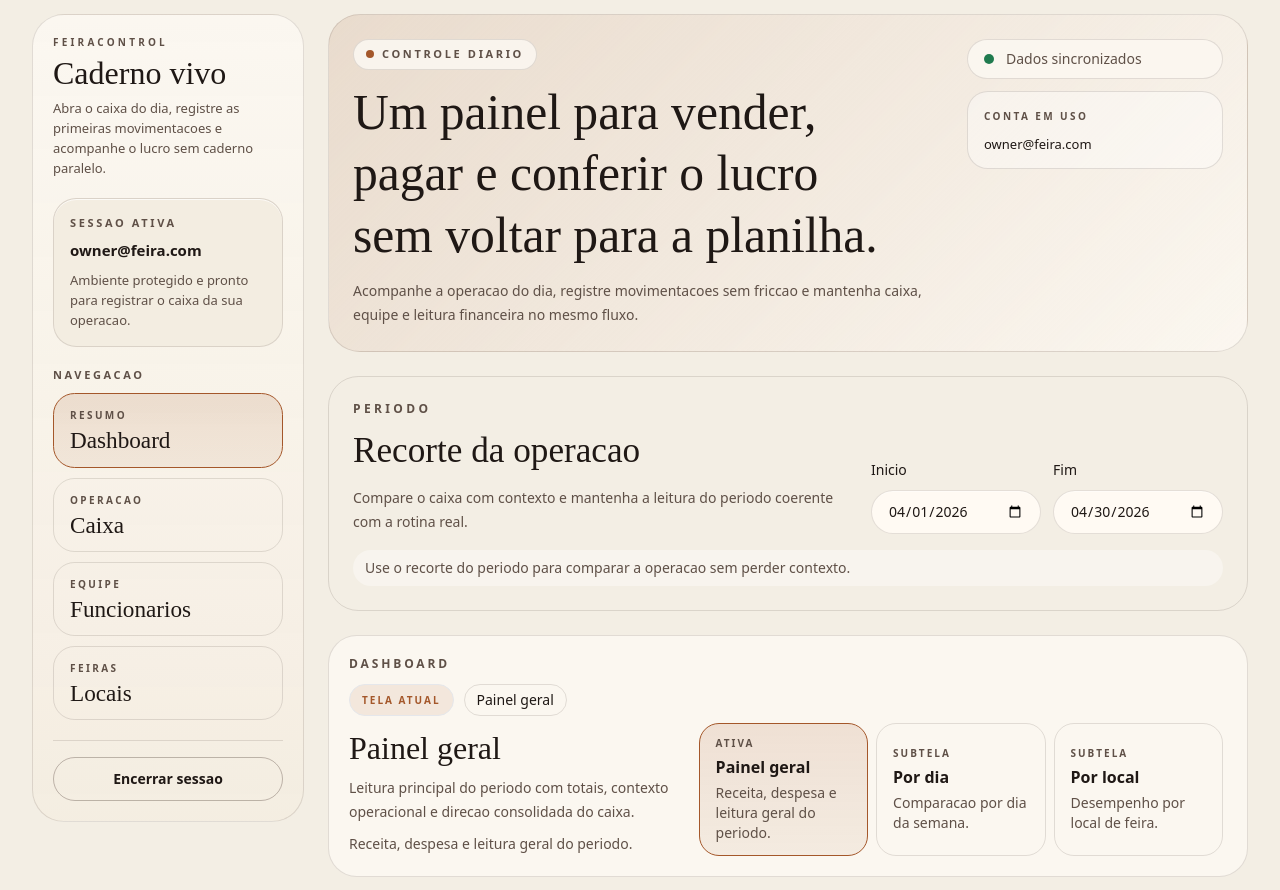
it: App context flows › mostra contexto do local quando a movimentacao do caixa esta vinculada
Click the button with test id "nav-cash" at (168, 515), box [53,478,283,552]
(page scrolled)
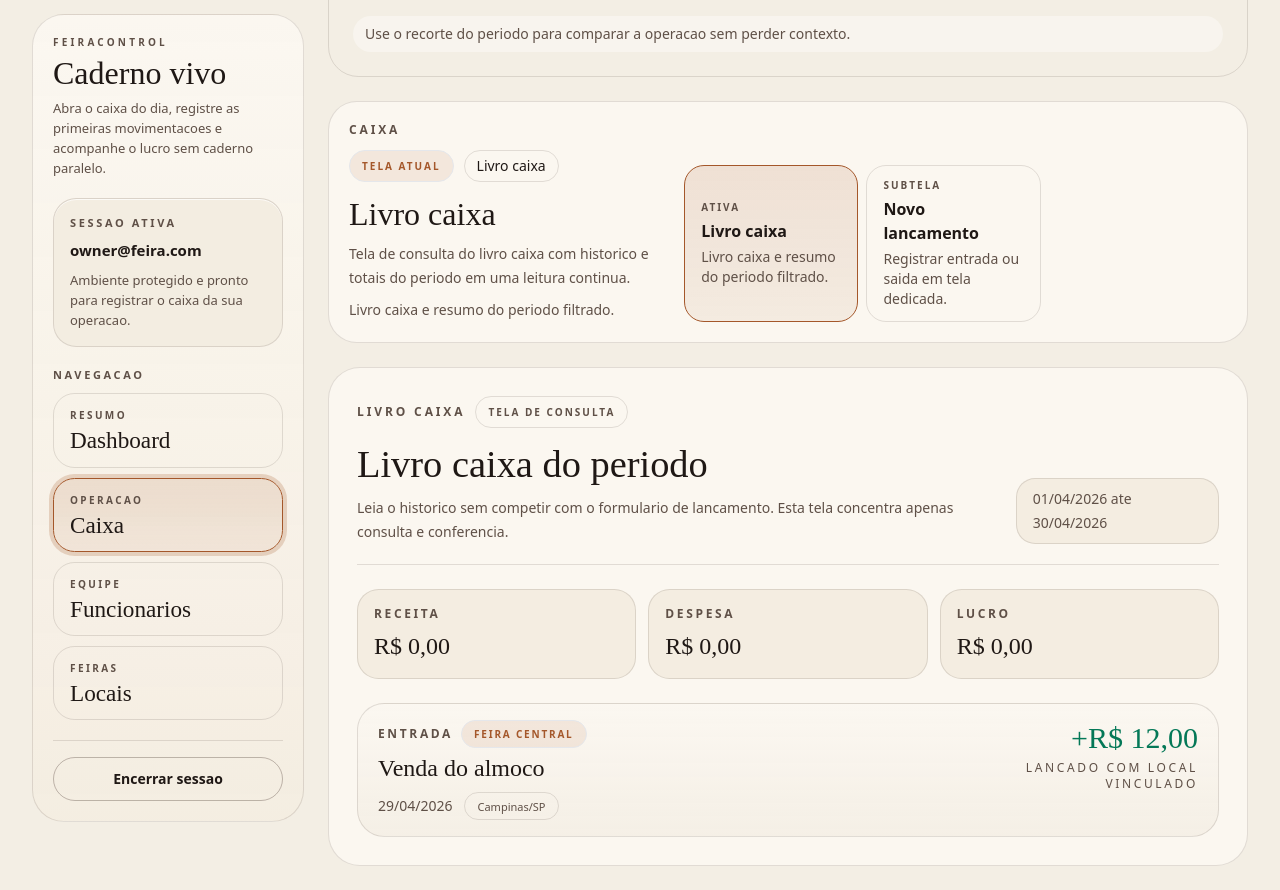
Expected: the text "Feira Central" is shown, [461,720,586,748]
Expected: the text "Campinas/SP" is shown, [464,792,558,820]
